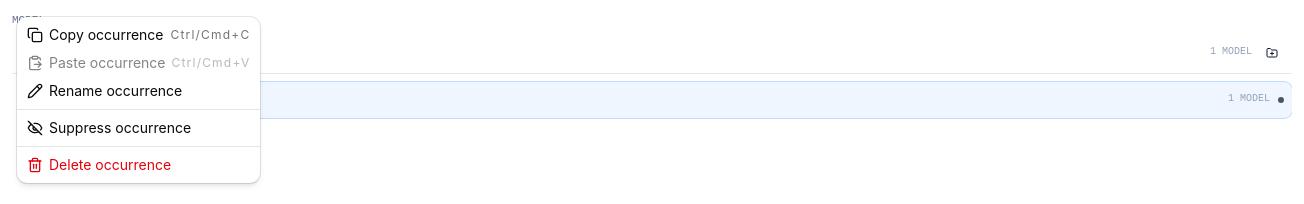
Test case: ProjectModelTree › keeps duplicate display suffixes out of occurrence rename values
Click the menu item "Rename occurrence": {"x": 105, "y": 90} [27,82,182,99]
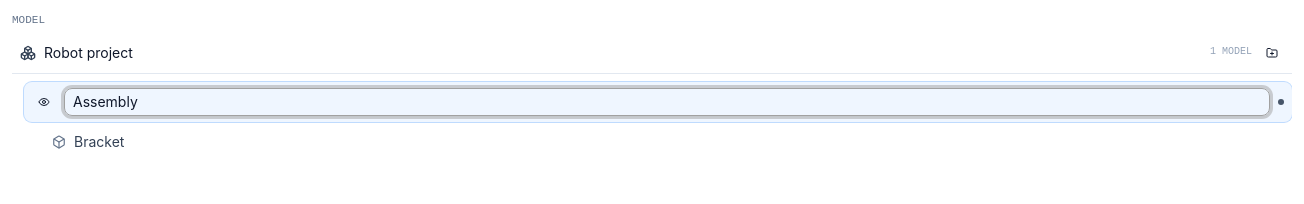
expect the field named "Occurrence name" holds "Assembly": met, box [64,88,1270,116]
